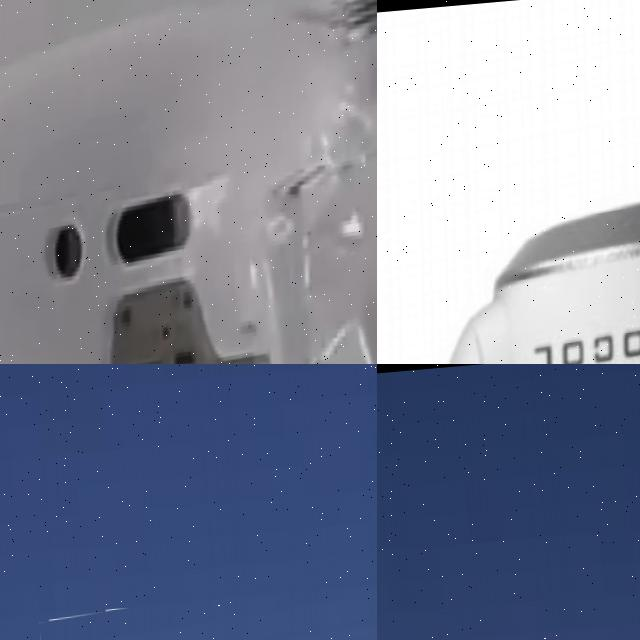0: (38, 568, 377, 640)
drone: (0, 0, 377, 364), (377, 0, 640, 364)
